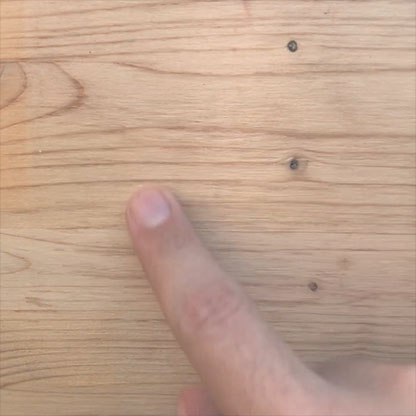fingertip: (119, 173, 196, 242)
